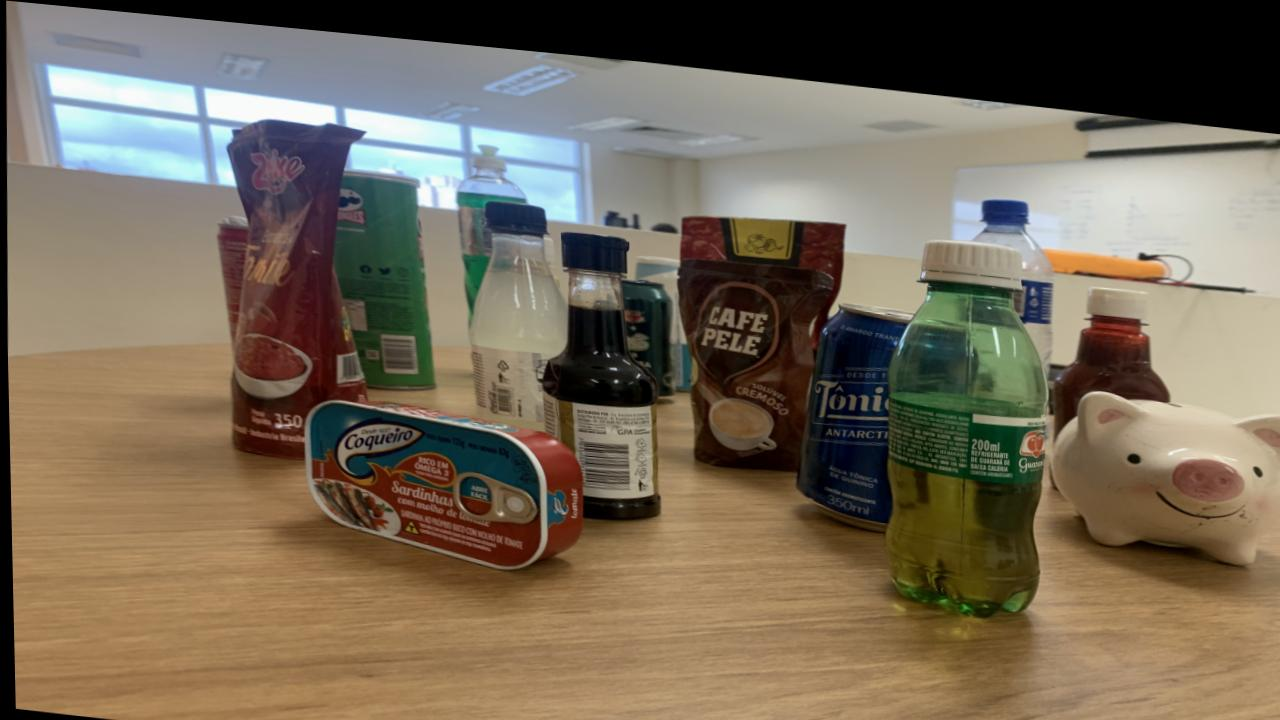Cleaner-Cleanup_Items: (634, 242, 691, 377)
Coffee-Pantry_Items: (676, 244, 831, 456)
Coke-Drinks: (216, 211, 249, 334)
Detergent-Cleanup_Items: (456, 135, 526, 308)
English_Sauce-Pantry_Items: (541, 220, 659, 508)
Guarana-Drinks: (884, 221, 1046, 597)
Guarana_Can-Drinks: (621, 267, 674, 383)
Ketchup-Pantry_Items: (1051, 265, 1169, 415)
Pig_Safe-Miscellaneous: (1051, 368, 1280, 541)
Pringles-Snacks: (334, 163, 434, 382)
Soda-Drinks: (469, 191, 566, 411)
Tomato_Sauce-Pantry_Items: (226, 114, 364, 453), (679, 201, 844, 330)
Tonic-Drinks: (796, 286, 911, 513)
Tuna_Can-Pantry_Items: (304, 394, 581, 560)
Water_Bottle-Drinks: (974, 178, 1054, 350)
